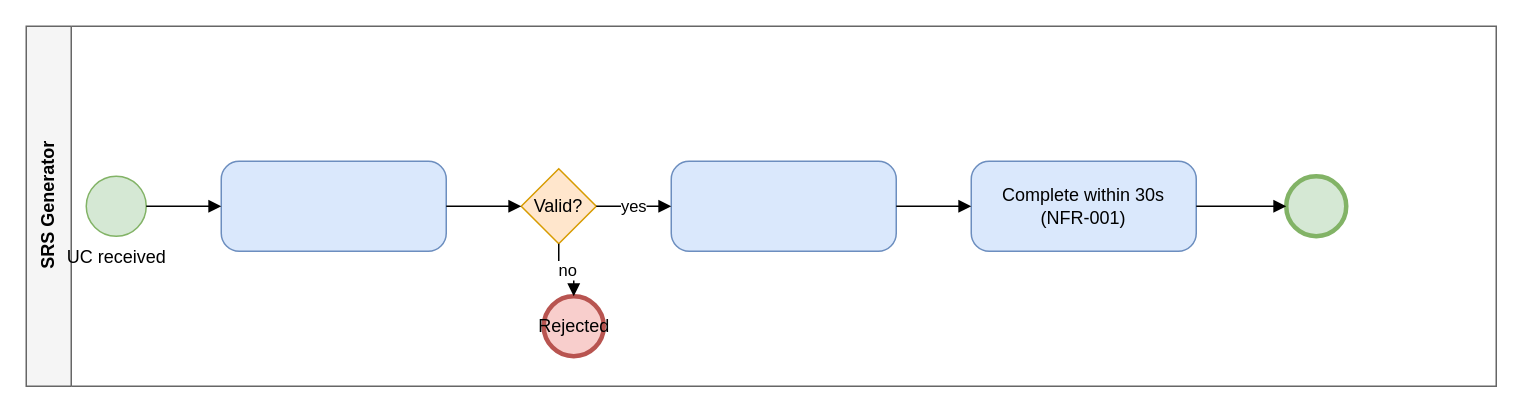
Image size: 1523x413. Some labels were removed from this diagram. The shapes that lost their labels are listed below. From the top down, each one's centre as x and y in pixels, then its label:
point 333,205: Validate identifier format (FR-002)
point 783,205: Produce structured SRS (FR-001)
point 1315,205: SRS returned
